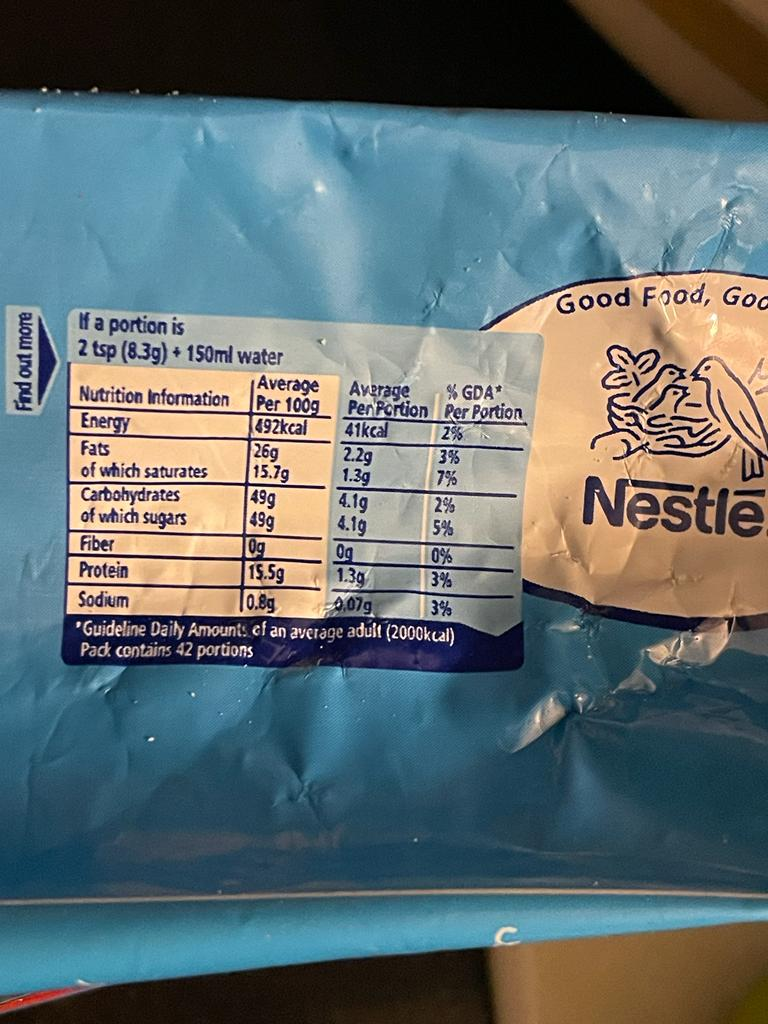table: (58, 301, 534, 683)
